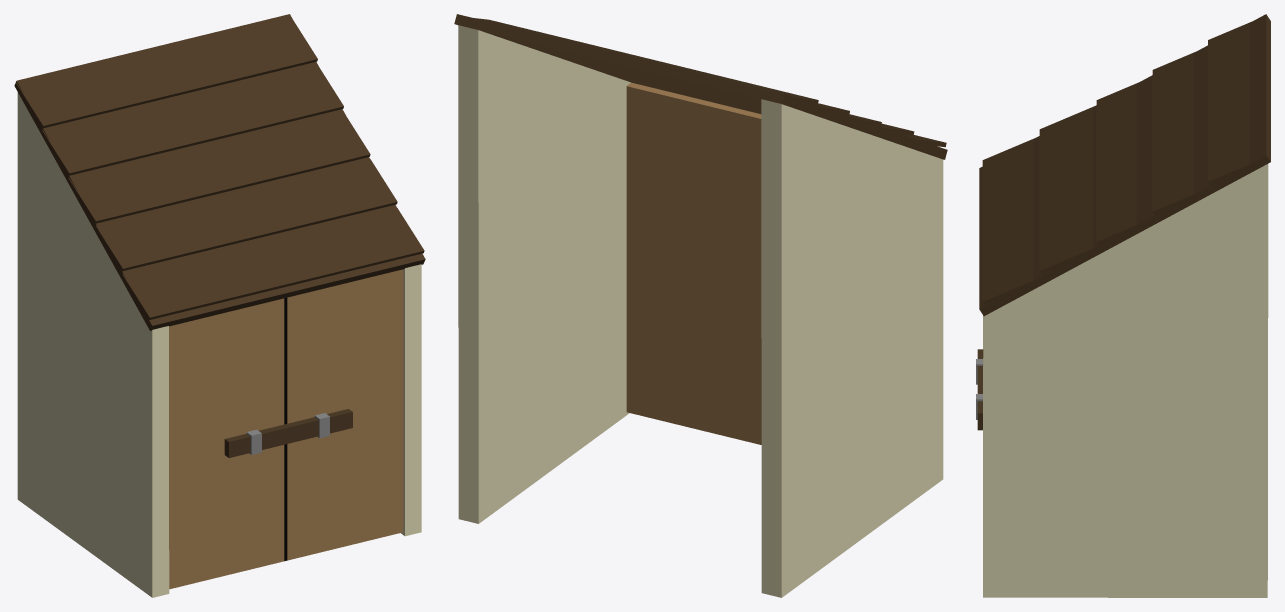
The model's file is cuartet.fbx.
3 renders of one model, left to right at view 1: azimuth 30°, elevation 25°; view 2: azimuth 150°, elevation 25°; view 3: azimuth 270°, elevation 25°, orthographic. The views are drawn at different scales.
Parts seen in each view (by area): view 1: shed; view 2: shed; view 3: shed.
Boxes of the visible parts, x1=… form: shed: x1=14, y1=14, x2=425, y2=597; shed: x1=454, y1=14, x2=947, y2=597; shed: x1=976, y1=14, x2=1270, y2=597.
Size of the model in its own units: 1130 by 1651 by 994.
